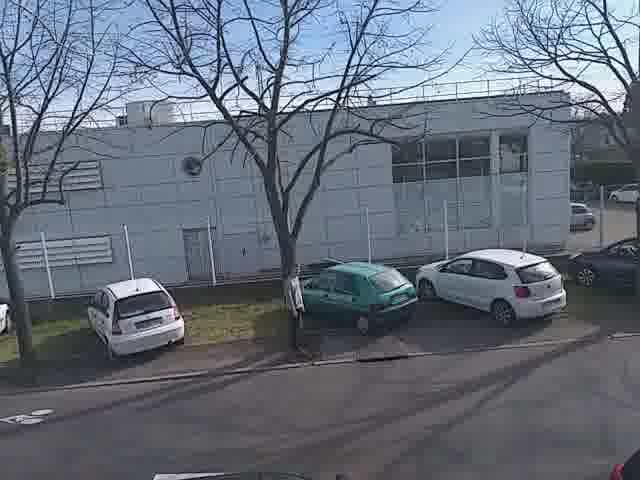persona: (275, 258, 310, 363)
